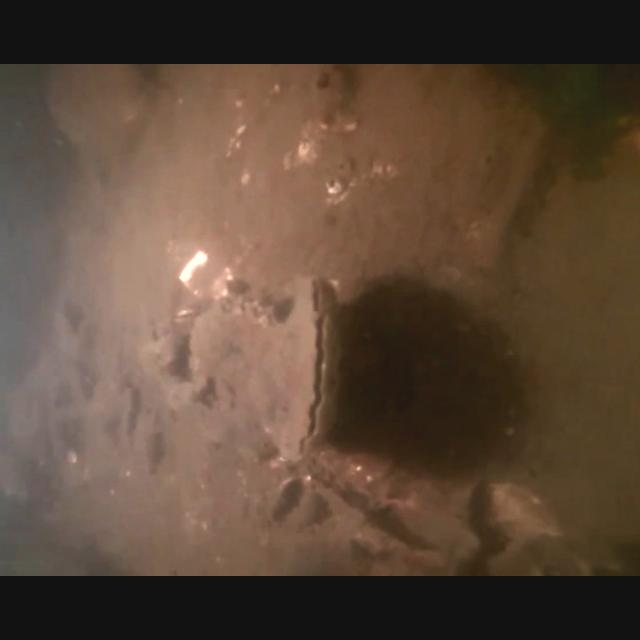Oyster-Open: (247, 274, 346, 466), (190, 293, 280, 445)
